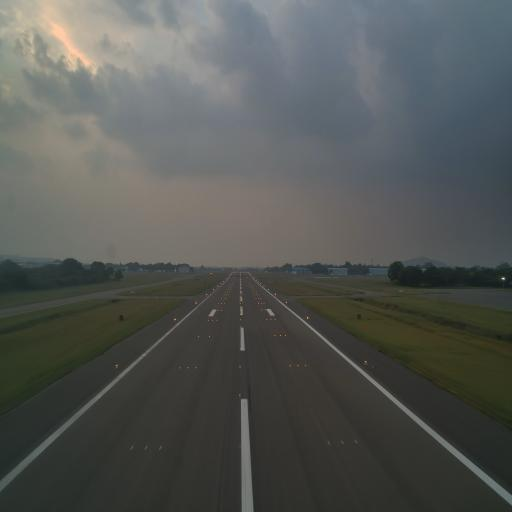off: (238, 442, 244, 452)
on: (339, 438, 345, 447), (114, 360, 119, 370), (353, 436, 358, 446), (326, 440, 332, 448), (130, 443, 135, 452), (288, 361, 293, 370), (158, 444, 163, 452), (144, 443, 148, 452), (296, 362, 300, 370), (178, 364, 182, 371), (238, 391, 242, 398), (364, 357, 367, 366), (186, 365, 190, 371), (194, 363, 197, 371), (238, 364, 242, 370), (303, 363, 307, 368)
